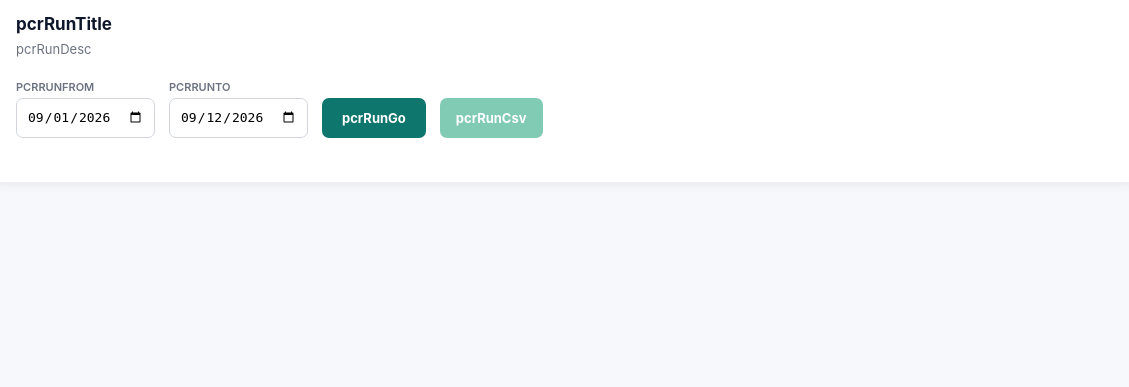
Test: PayrollRun request binding › does not allow a run without paycheck rulesets to be finalized
What coordinates should you click on to do the following:
click the button "pcrRunGo"
I would click on:
 (374, 118)
Its box is [322, 98, 426, 138].
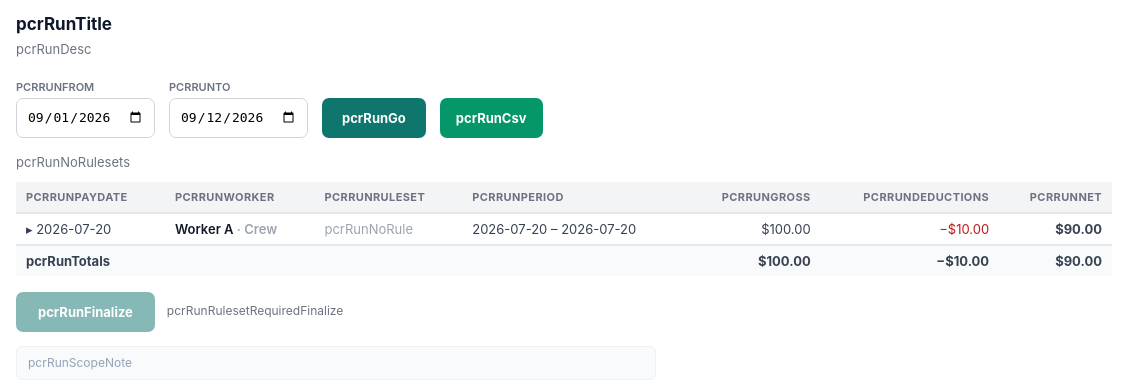
Now the button "pcrRunFinalize" is disabled, box [16, 292, 155, 332]
Now the text "pcrRunRulesetRequiredFinalize" is shown, box [167, 303, 343, 320]
